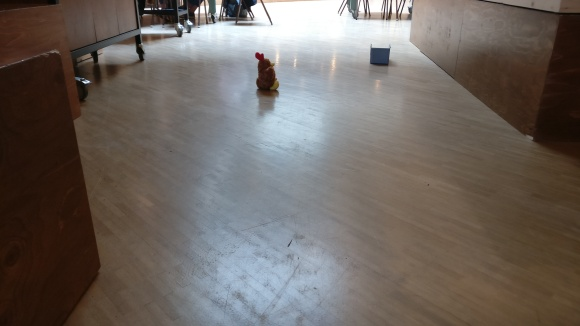chicken: (253, 50, 279, 92)
tray: (367, 41, 392, 65)
